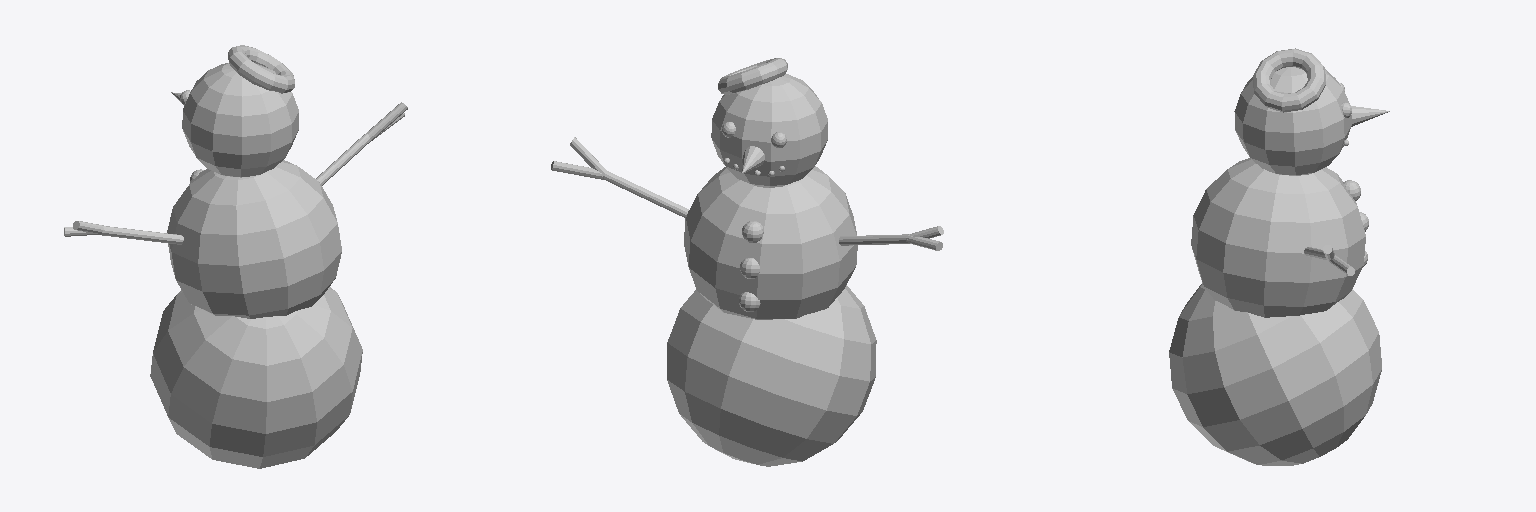
Rendered from snowman.obj.
The picture shows the model from 3 angles: view 1: azimuth 30°, elevation 25°; view 2: azimuth 150°, elevation 25°; view 3: azimuth 270°, elevation 25°; orthographic projection.
Size of the model in its own units: 1.28 by 1.35 by 0.6744.